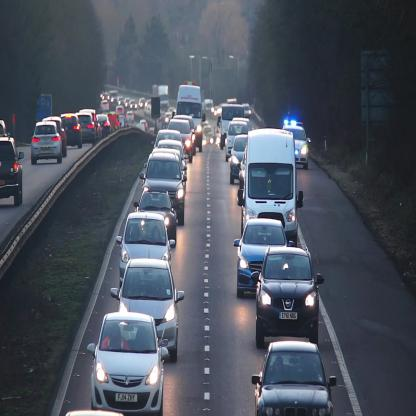car: (87, 311, 168, 416), (112, 258, 184, 362), (251, 247, 324, 348), (252, 342, 337, 416), (233, 217, 294, 300), (116, 212, 175, 286), (140, 154, 186, 224), (135, 192, 175, 246), (1, 136, 23, 207), (31, 120, 63, 165), (282, 125, 311, 170), (167, 119, 192, 162), (225, 122, 247, 161), (78, 112, 101, 146), (61, 115, 81, 148)
truck: (242, 128, 298, 247), (177, 86, 203, 152)
